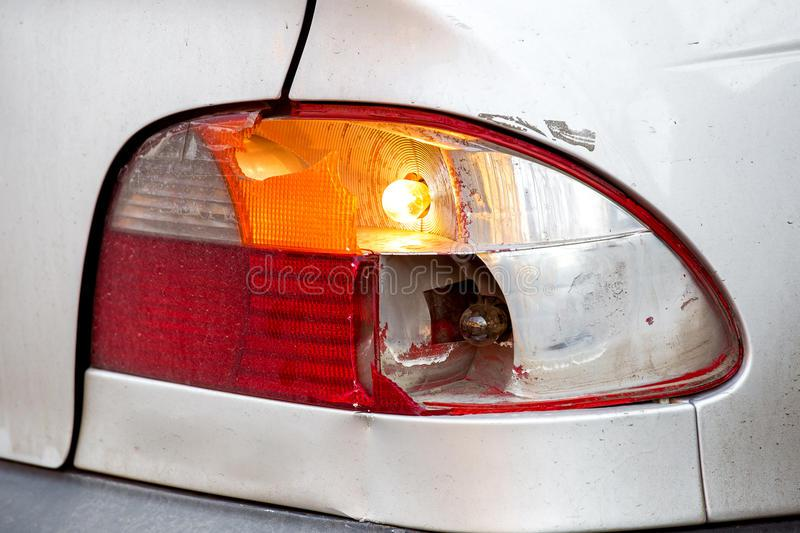Signlight-Damage: (156, 94, 572, 250)
Taillight-Damage: (57, 99, 746, 424)
